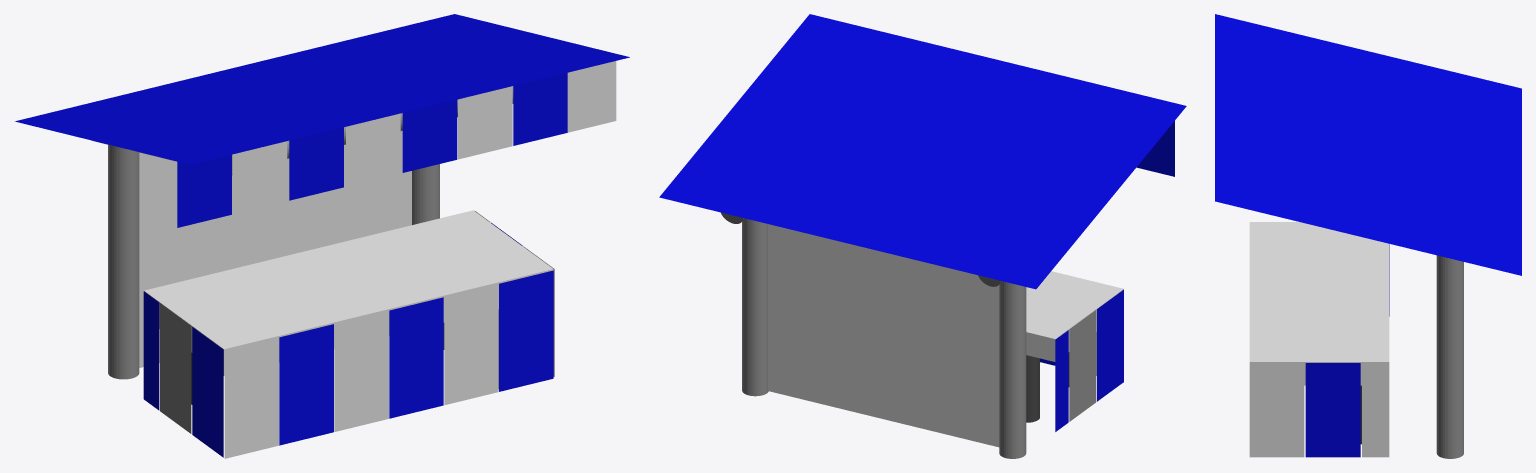
File: 屋台青.fbx
3 renders of one model, left to right at view 1: azimuth 30°, elevation 25°; view 2: azimuth 150°, elevation 25°; view 3: azimuth 270°, elevation 25°, orthographic. The views are drawn at different scales.
Visible parts, largest first — view 1: 平面.066, 立方体.002, 平面.067, 円柱.028, 平面.052, 平面.065, 平面.053, 平面.051, 平面.050, 平面.054, 平面.046, 平面.047 (+10 smaller); view 2: 平面.066, 平面.067, 円柱.028, 立方体.002, 円柱.029, 平面.047, 平面.046, 平面.063, 平面.056, 円柱.022; view 3: 平面.066, 立方体.002, 円柱.029, 平面.049, 平面.064, 平面.048.
Boxes of the visible parts, bbox=[...] form: 平面.066: bbox=[15, 14, 629, 164]; 立方体.002: bbox=[144, 210, 553, 375]; 平面.067: bbox=[139, 131, 411, 367]; 円柱.028: bbox=[108, 144, 139, 379]; 平面.052: bbox=[499, 270, 553, 391]; 平面.065: bbox=[389, 297, 443, 418]; 平面.053: bbox=[334, 310, 388, 431]; 平面.051: bbox=[279, 324, 333, 445]; 平面.050: bbox=[224, 337, 278, 458]; 平面.054: bbox=[444, 284, 498, 405]; 平面.046: bbox=[192, 327, 223, 457]; 平面.047: bbox=[160, 303, 191, 433]; 平面.066: bbox=[659, 14, 1186, 289]; 平面.067: bbox=[768, 224, 999, 447]; 円柱.028: bbox=[999, 281, 1026, 458]; 立方体.002: bbox=[1026, 271, 1123, 361]; 円柱.029: bbox=[742, 218, 768, 396]; 平面.047: bbox=[1069, 310, 1096, 421]; 平面.046: bbox=[1097, 289, 1123, 401]; 平面.063: bbox=[1055, 330, 1068, 431]; 平面.056: bbox=[1136, 121, 1174, 176]; 円柱.022: bbox=[1026, 355, 1039, 422]; 平面.066: bbox=[1215, 14, 1521, 275]; 立方体.002: bbox=[1249, 222, 1389, 385]; 円柱.029: bbox=[1436, 255, 1463, 458]; 平面.049: bbox=[1305, 363, 1360, 457]; 平面.064: bbox=[1249, 363, 1304, 457]; 平面.048: bbox=[1362, 363, 1389, 457].
Size of the model in its own units: 810 by 568 by 560.
